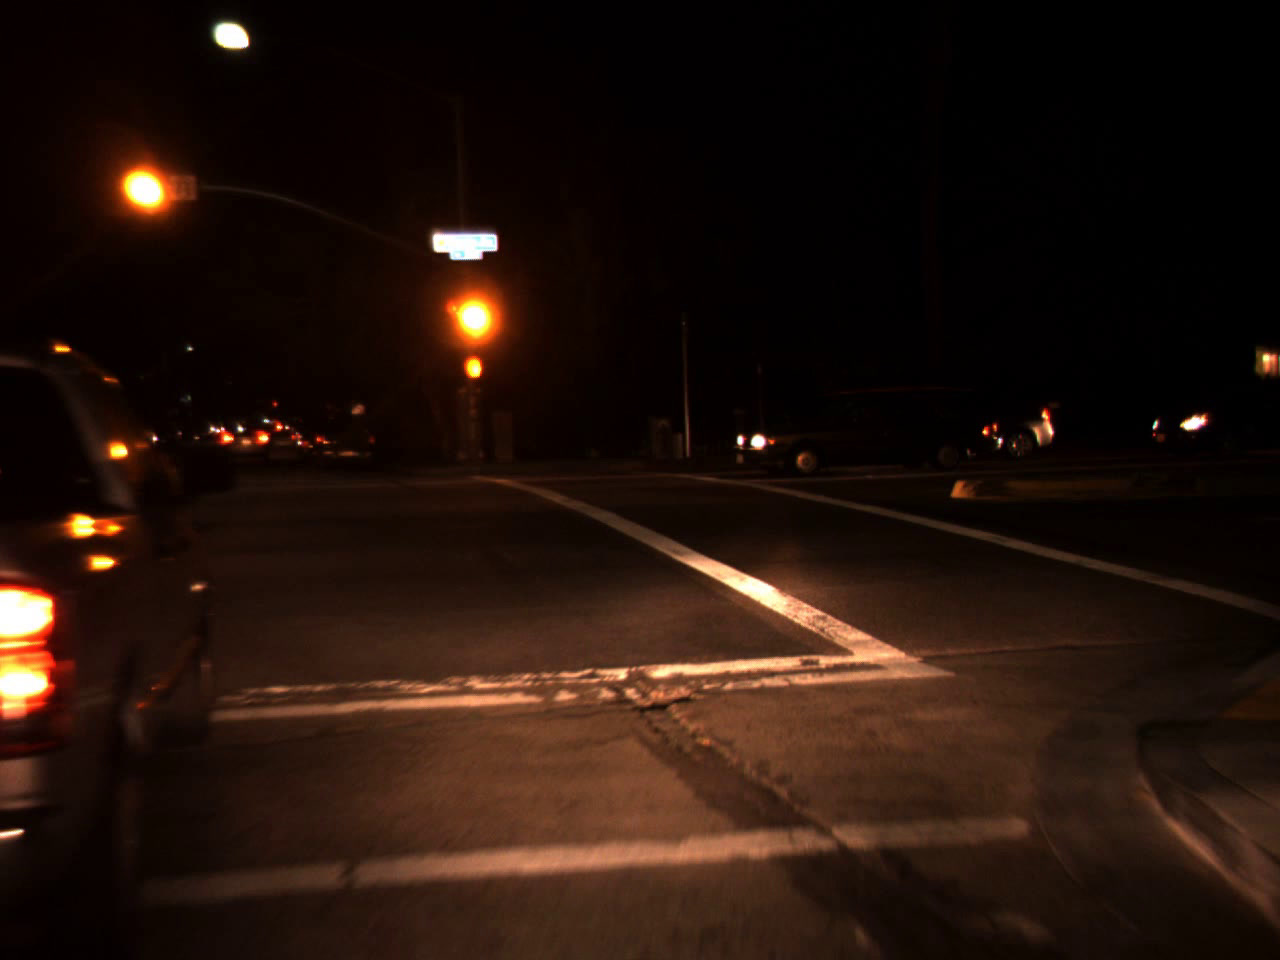warning: (458, 285, 494, 347), (127, 160, 163, 215)
